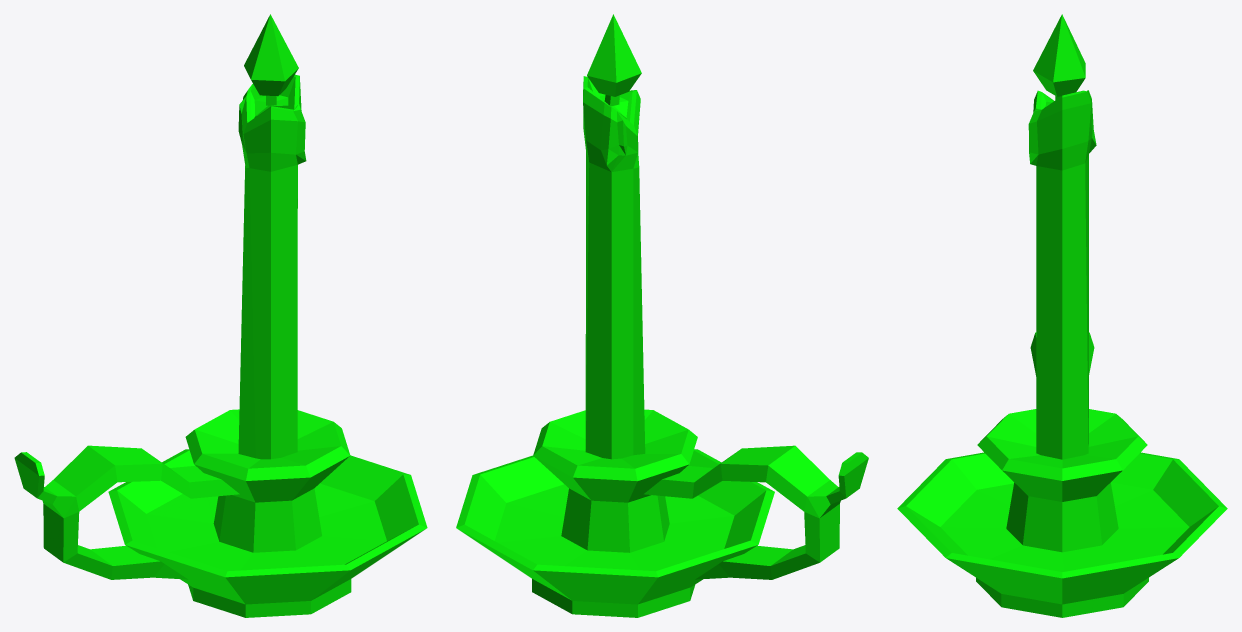
File: SM_Candle_Finger_Holder_B_Lit_Fantasy.fbx
3 views of the same model, side by side, from view 1: azimuth 30°, elevation 25°; view 2: azimuth 150°, elevation 25°; view 3: azimuth 270°, elevation 25° (orthographic).
Parts seen in each view (by area): view 1: candle-finger-holder-b-lit-fantasy; view 2: candle-finger-holder-b-lit-fantasy; view 3: candle-finger-holder-b-lit-fantasy.
Boxes of the visible parts, x1,y1,x2,y2 form: candle-finger-holder-b-lit-fantasy: [14, 14, 427, 617]; candle-finger-holder-b-lit-fantasy: [456, 14, 868, 617]; candle-finger-holder-b-lit-fantasy: [897, 14, 1227, 617].
Size of the model in its own units: 0.2353 by 0.3325 by 0.1752.
